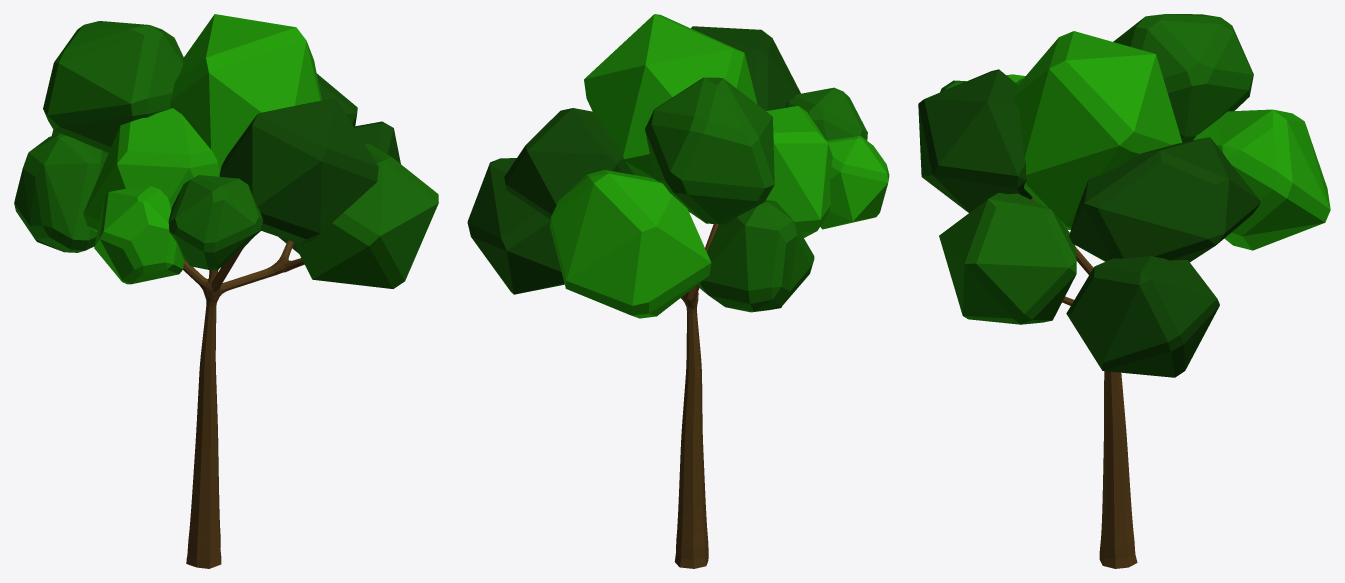
The model's file is tree-3.glb.
The picture shows the model from 3 angles, left to right: view 1: azimuth 30°, elevation 25°; view 2: azimuth 150°, elevation 25°; view 3: azimuth 270°, elevation 25°; orthographic projection. The views are drawn at different scales.
Visible parts, largest first — view 1: Tree 3; view 2: Tree 3; view 3: Tree 3.
Part boxes in pixels (x1,y1,x2,y2): Tree 3: [14, 14, 438, 568]; Tree 3: [467, 14, 889, 568]; Tree 3: [918, 14, 1330, 568].
Bounding box in the file's own units: 13.58 × 19.14 × 13.43.
